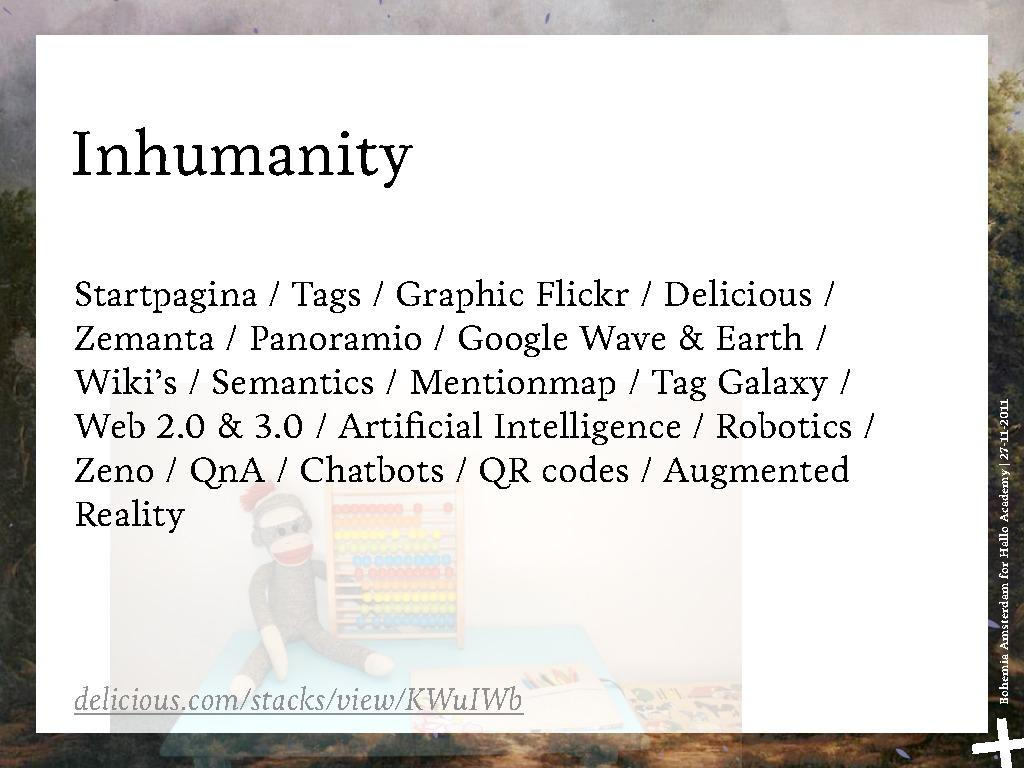paragraph: (57, 249, 903, 568)
title: (56, 108, 462, 199)
